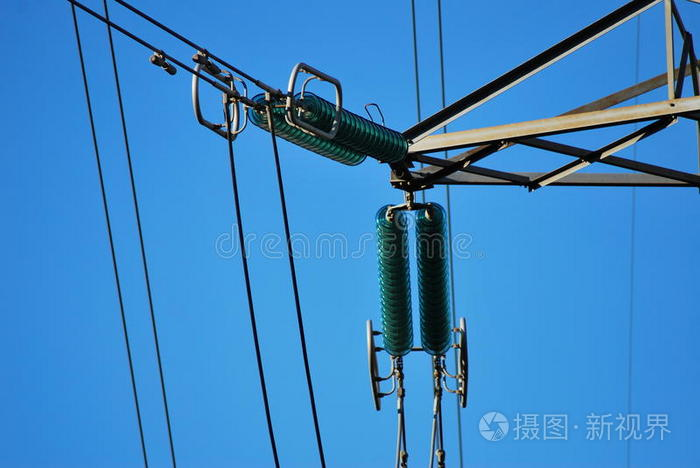insulator: (247, 89, 409, 166), (374, 202, 452, 356)
